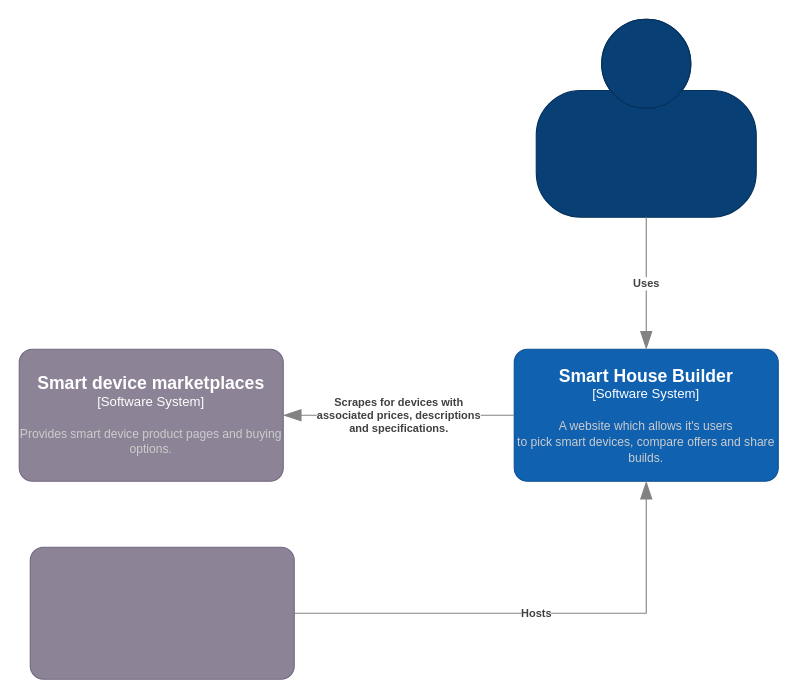
The diagram is 798 pixels wide and 699 high, and some of its shapes have lost their labels. The shapes that lost their labels are listed below. From the top down, each one's box as (x1, y1, x2, y2) in pixels, then its label:
(535, 18, 756, 217): End User [Person] A user who wishes to build a smart house.
(29, 546, 294, 679): Hosting provider [Software System] Hosts the application.
